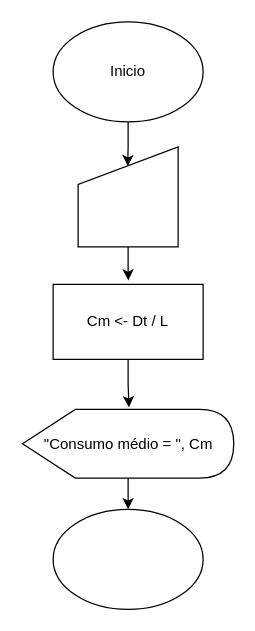
Image size: 255x631. Some labels were removed from this diagram. The shapes that lost their labels are listed below. From the top down, each one's centre as x and y in pixels, then its label:
point 127,196: Dt, L
point 127,558: Fim
